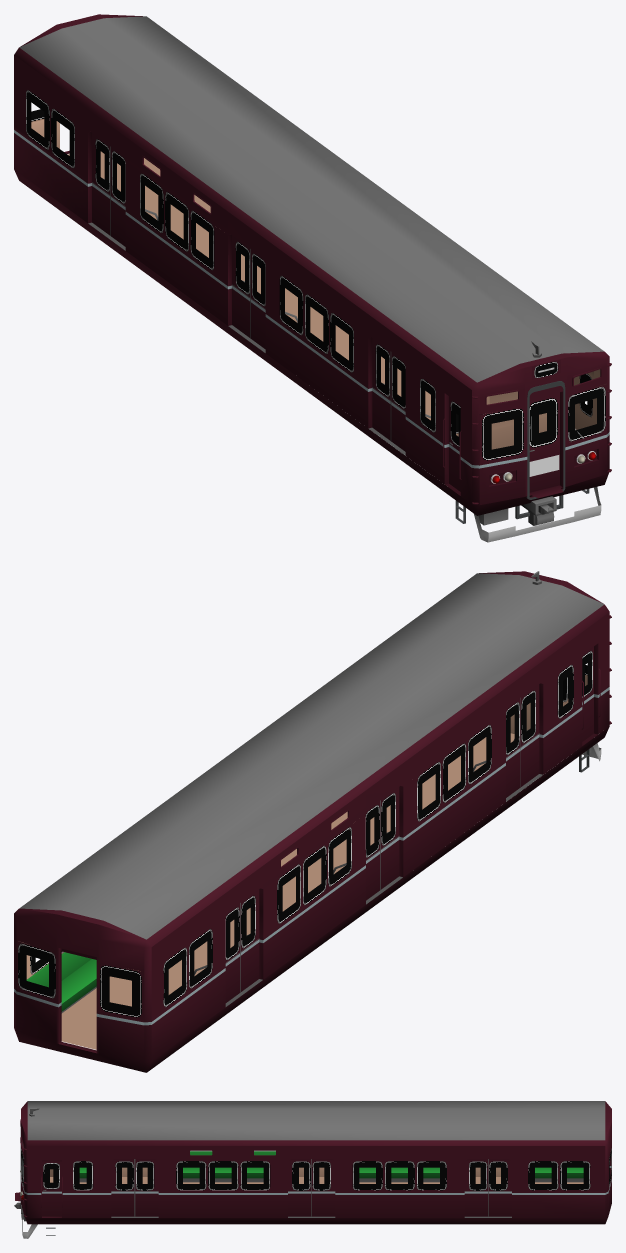
The model's file is HANKYU7001_1.glb.
The picture shows the model from 3 angles, top to bottom: view 1: azimuth 30°, elevation 25°; view 2: azimuth 150°, elevation 25°; view 3: azimuth 270°, elevation 25°; orthographic projection. The views are drawn at different scales.
Visible parts, largest first — view 1: body; view 2: body; view 3: body.
Boxes of the visible parts, bbox=[...] form: body: bbox=[14, 14, 611, 542]; body: bbox=[14, 571, 611, 1072]; body: bbox=[14, 1101, 611, 1238].
Size of the model in its own units: 6.68 by 8.08 by 38.91.
15 materials, 14 textured.
